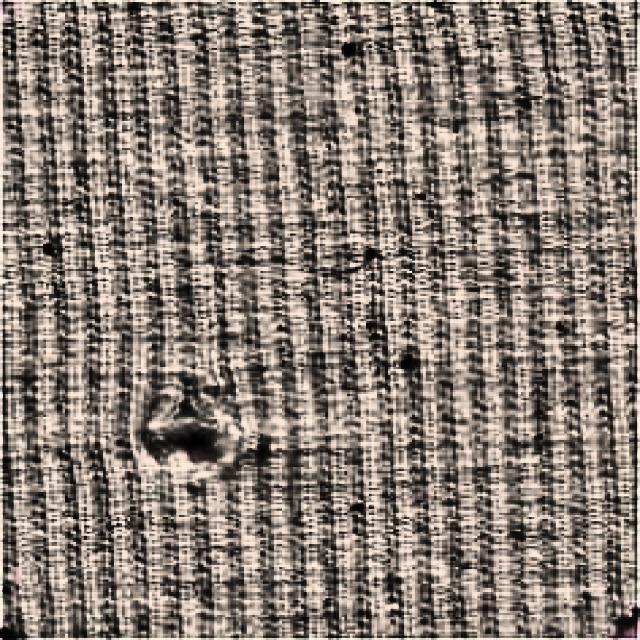Hole: (133, 406, 256, 498), (330, 36, 382, 65), (33, 237, 76, 267)
